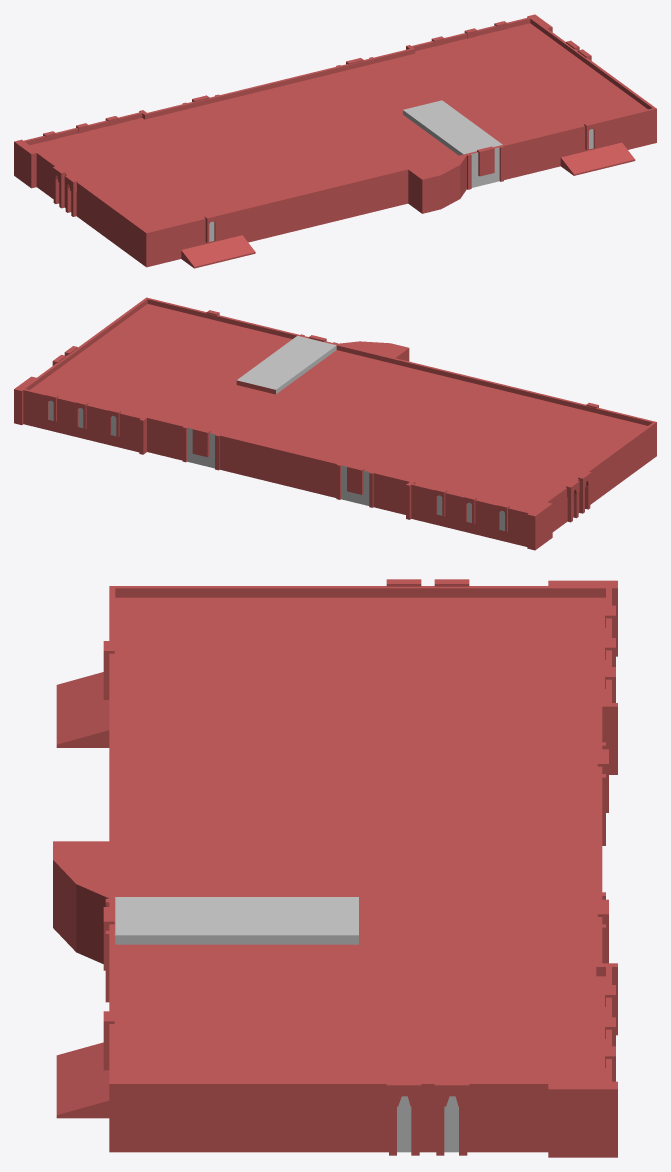
File: SM_house_section_7.fbx
The picture shows the model from 3 angles, top to bottom: view 1: azimuth 30°, elevation 25°; view 2: azimuth 150°, elevation 25°; view 3: azimuth 270°, elevation 25°; orthographic projection. The views are drawn at different scales.
Parts seen in each view (by area): view 1: Cube_4; view 2: Cube_4; view 3: Cube_4.
Part boxes in pixels (x1,y1,x2,y2): Cube_4: [14, 14, 656, 268]; Cube_4: [14, 297, 656, 550]; Cube_4: [53, 579, 617, 1157].
Bounding box in the file's own units: 3994 × 260 × 1875.
